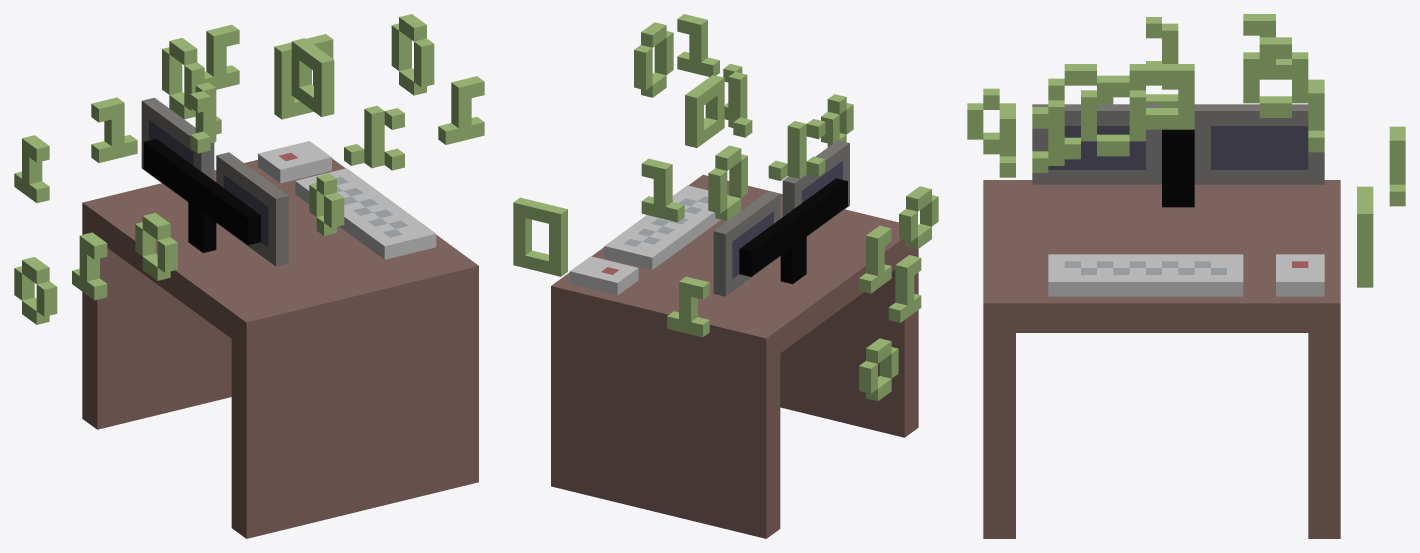
Rendered from coding.glb.
3 renders of one model, left to right at view 1: azimuth 30°, elevation 25°; view 2: azimuth 150°, elevation 25°; view 3: azimuth 270°, elevation 25°, orthographic. The views are drawn at different scales.
Parts seen in each view (by area): view 1: defaultobject; view 2: defaultobject; view 3: defaultobject.
Part boxes in pixels (x1,y1,x2,y2): defaultobject: (14, 14, 484, 538); defaultobject: (513, 14, 938, 538); defaultobject: (967, 14, 1405, 538).
Bounding box in the file's own units: 27 × 31 × 27.
